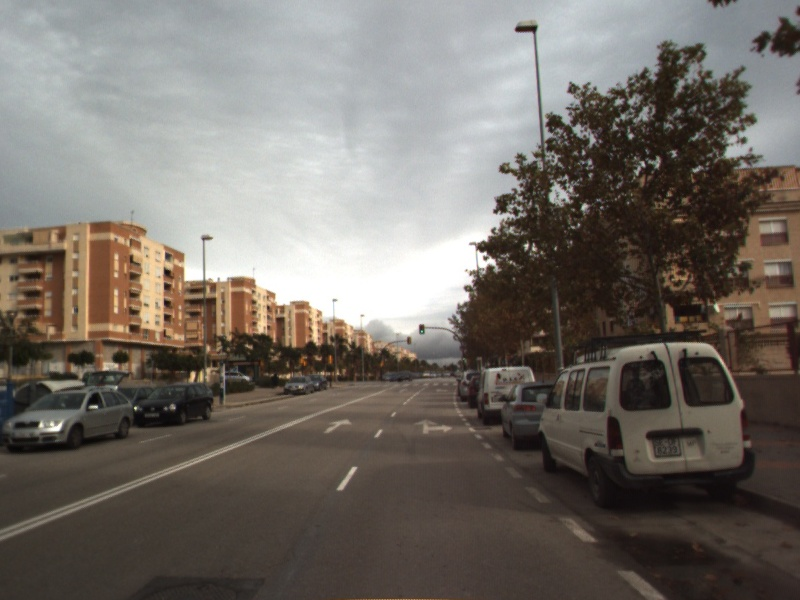STRAIGHT: (321, 416, 354, 435)
STRAIGHT_RIGHT: (412, 417, 455, 436)
